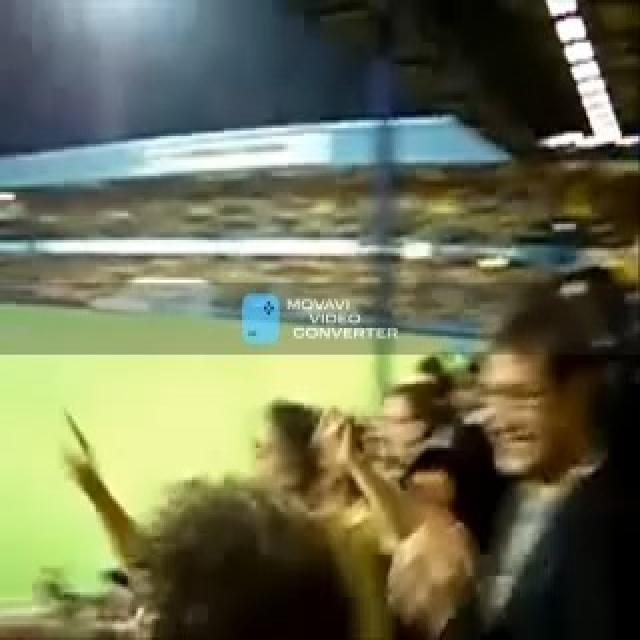non-voilence: (46, 278, 638, 638), (60, 405, 94, 459)
